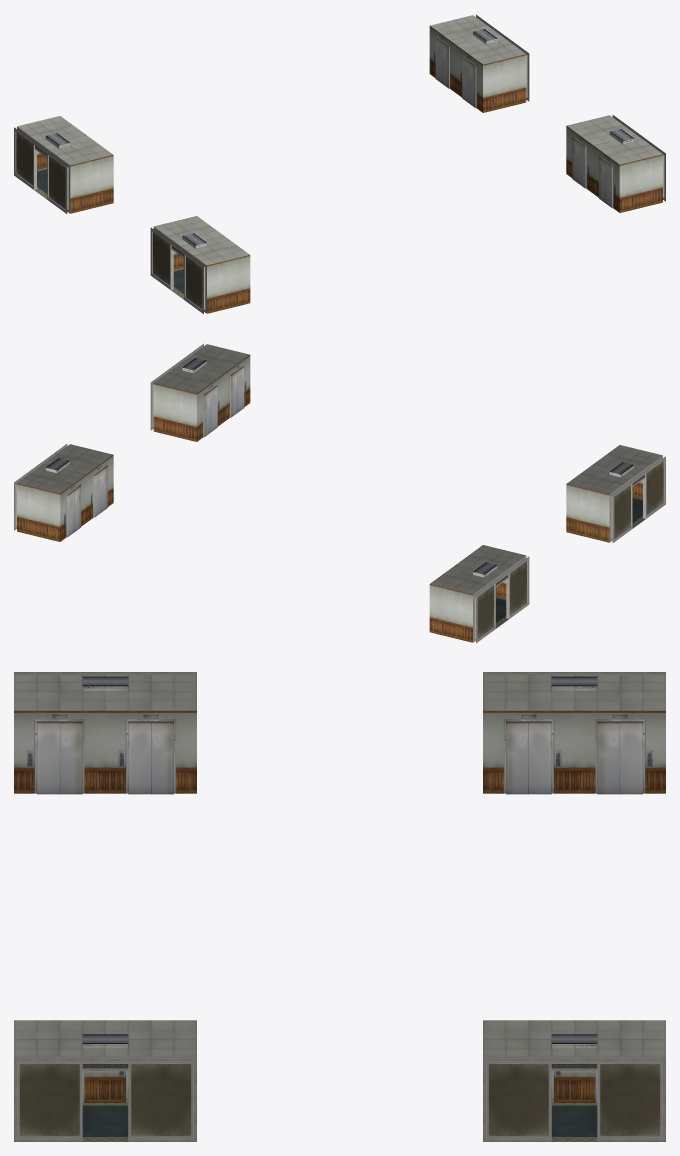
Rendered from elevator_room.fbx.
The picture shows the model from 3 angles, top to bottom: view 1: azimuth 30°, elevation 25°; view 2: azimuth 150°, elevation 25°; view 3: azimuth 270°, elevation 25°; orthographic projection. The views are drawn at different scales.
Parts seen in each view (by area): view 1: elevator_room.001; view 2: elevator_room.001; view 3: elevator_room.001.
Boxes of the visible parts, bbox=[...] form: elevator_room.001: bbox=[14, 14, 665, 314]; elevator_room.001: bbox=[14, 343, 665, 643]; elevator_room.001: bbox=[14, 672, 665, 1141].
Size of the model in its own units: 32.64 by 3.47 by 23.25.
12 materials, 12 textured.
